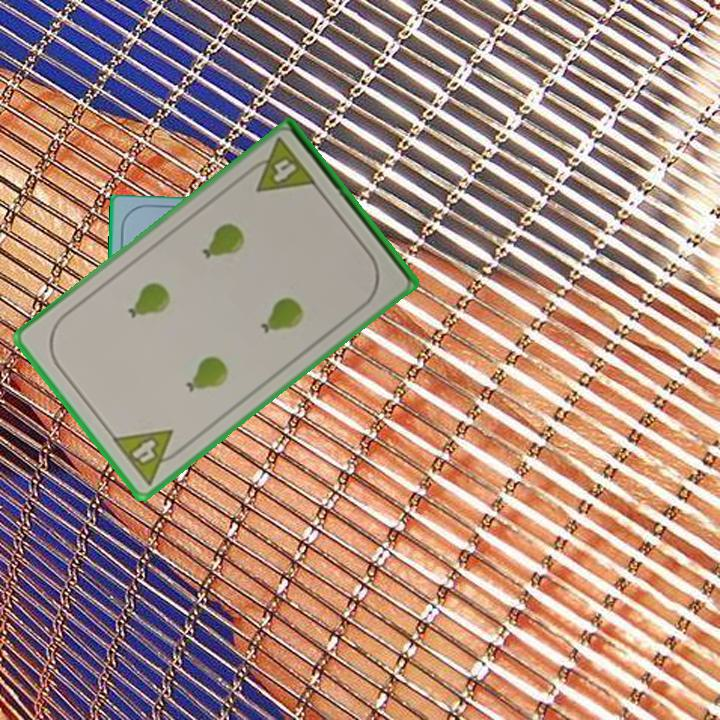4p: (109, 425, 189, 488), (241, 135, 320, 196)
